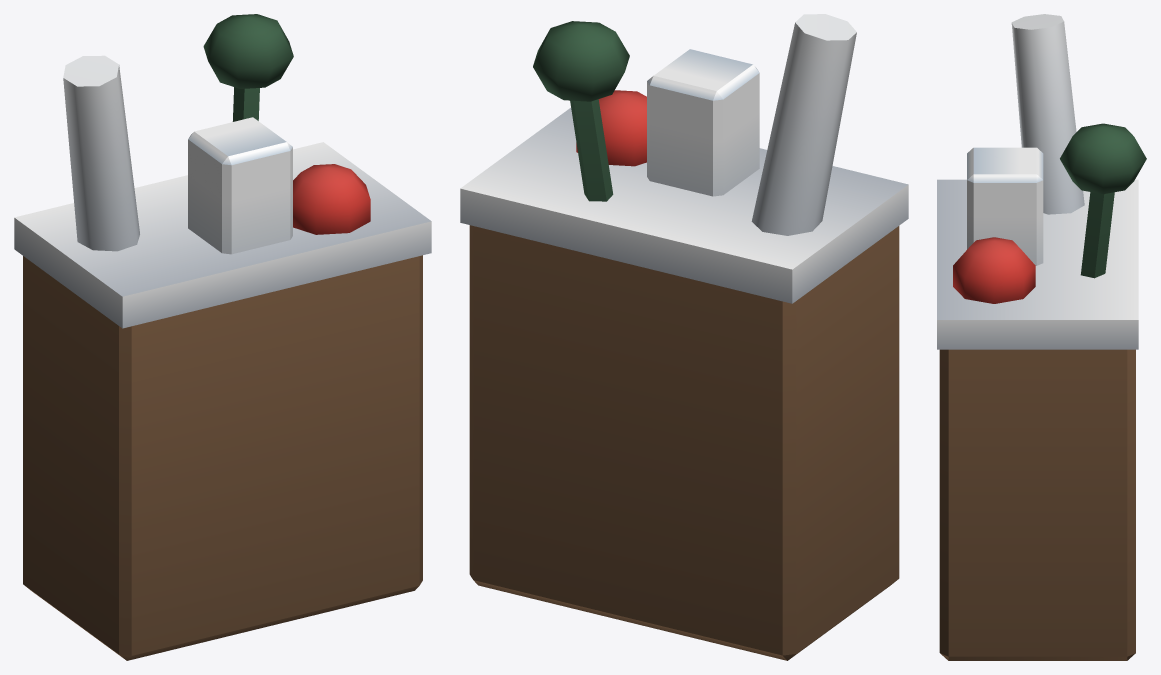
The model's file is ck_grocery_bag.fbx.
The picture shows the model from 3 angles, left to right: view 1: azimuth 30°, elevation 25°; view 2: azimuth 150°, elevation 25°; view 3: azimuth 270°, elevation 25°; orthographic projection. The views are drawn at different scales.
Visible parts, largest first — view 1: ck_grocery_bag; view 2: ck_grocery_bag; view 3: ck_grocery_bag.
Boxes of the visible parts, left/top/right/bottom form: ck_grocery_bag: left=14, top=14, right=431, bottom=660; ck_grocery_bag: left=460, top=14, right=908, bottom=660; ck_grocery_bag: left=937, top=14, right=1146, bottom=660.
Bounding box in the file's own units: 87.66 × 150 × 55.05.
